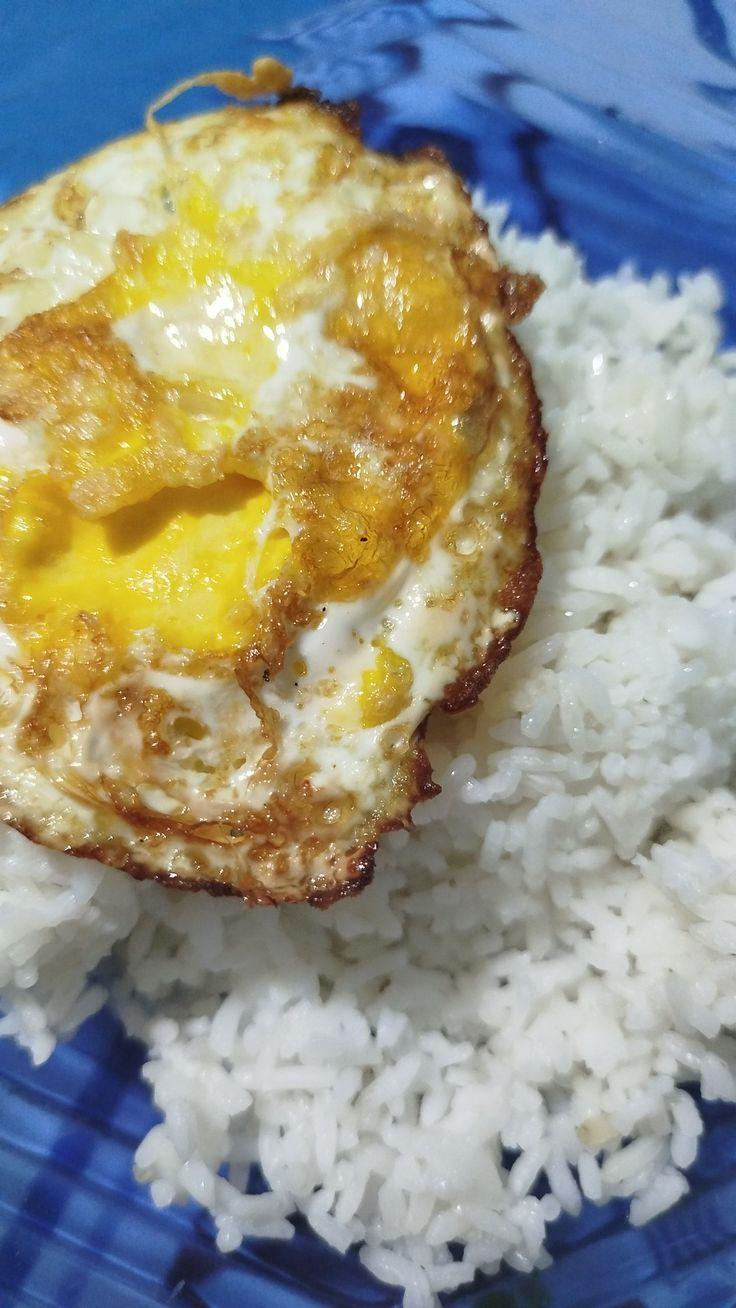makanan_berpati: (520, 618, 728, 1040)
telur: (40, 174, 402, 783)
